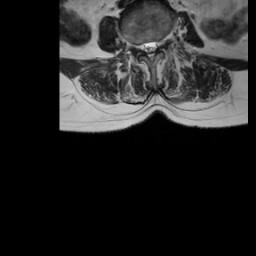CCS_normal: (147, 35, 152, 64)
LFS_normal: (158, 32, 163, 52)
LLS_normal: (152, 35, 158, 53)
RFS_stenosis: (136, 37, 142, 55)
RLS_normal: (142, 36, 147, 55)
